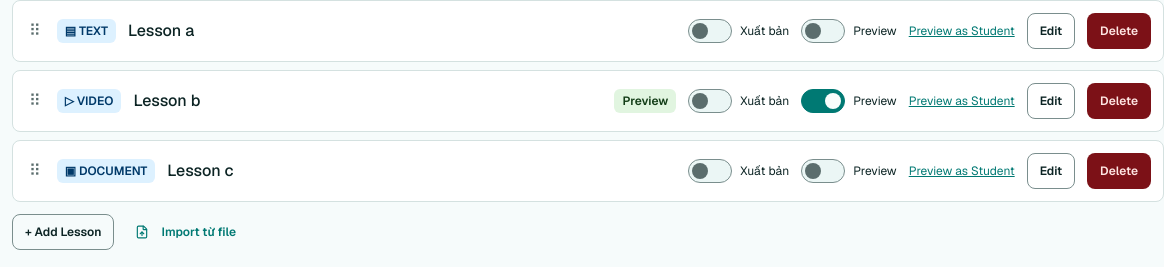
lesson toggles and deletion › toggling isPreview sends PATCH /lessons/:id
The width and height of the screenshot is (1164, 267).
Expected: the text "Lesson a" is shown, [128, 20, 194, 41]
What coordinates should you click on to do the following:
click the switch named "Preview Lesson a"
I would click on:
 (823, 31)
Its box is [801, 19, 845, 43].
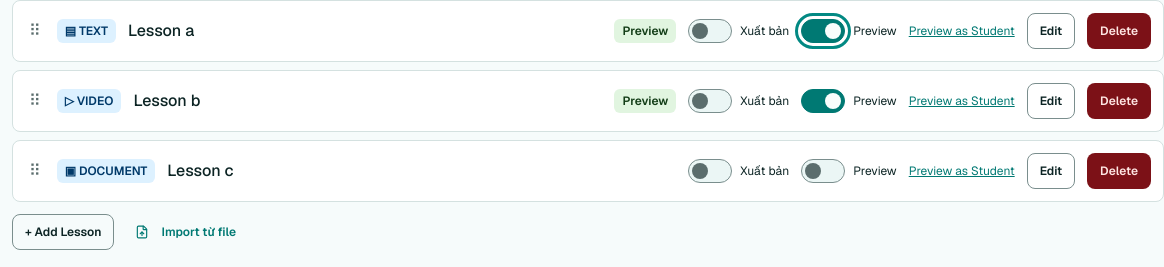
Result: the text "Preview" is shown 2 times at [614, 19, 676, 43]; [614, 89, 676, 113]
